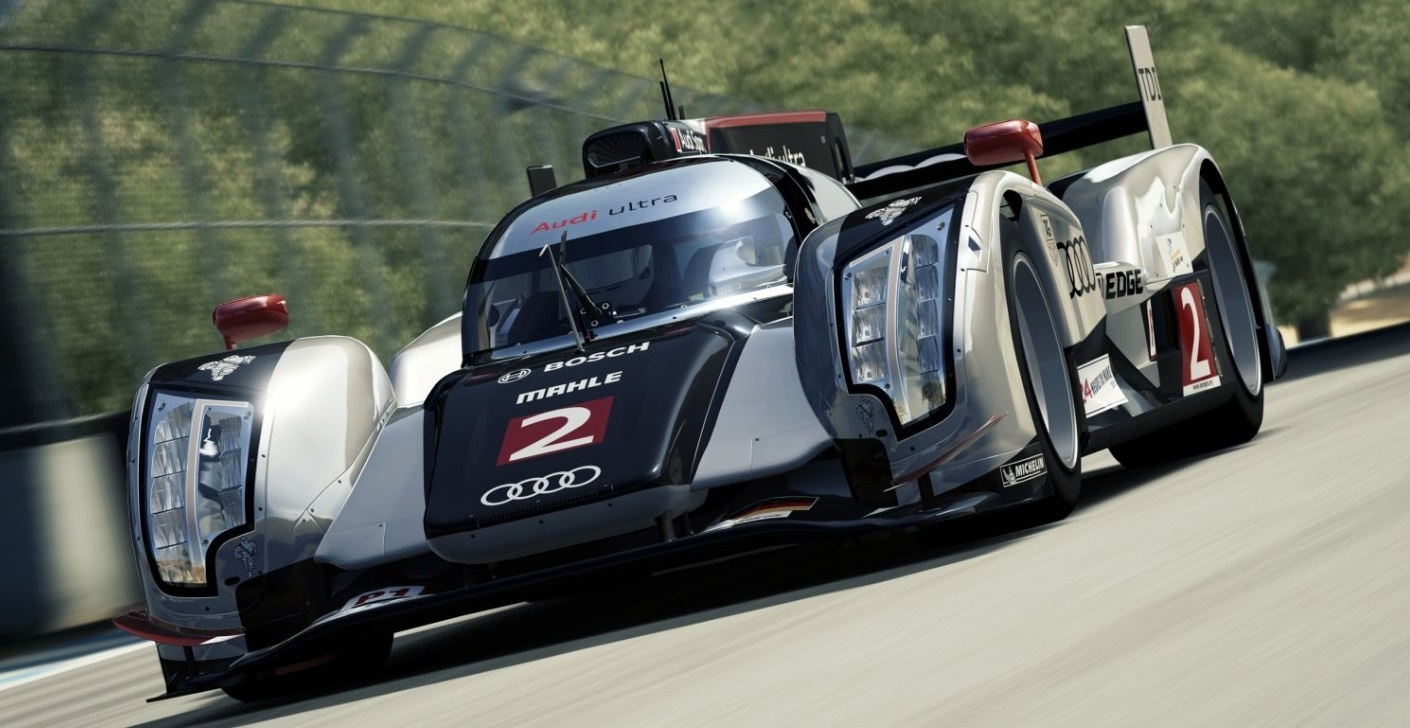racing car: (135, 113, 1317, 641)
